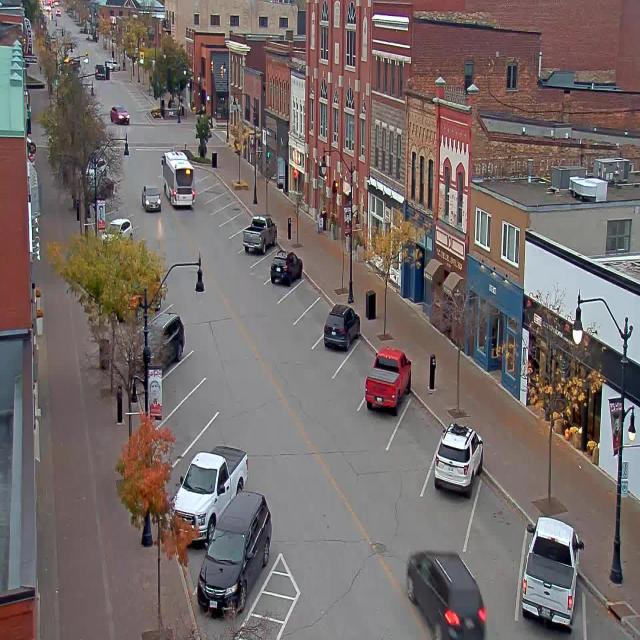available: (459, 476, 538, 586), (381, 389, 443, 482), (328, 334, 382, 410), (165, 372, 235, 424), (173, 406, 246, 452), (580, 589, 640, 640), (163, 346, 224, 392), (293, 301, 326, 346), (279, 283, 311, 325), (248, 248, 274, 288), (220, 215, 250, 236), (215, 201, 243, 222), (199, 182, 227, 200), (208, 193, 235, 211), (195, 173, 220, 188)
occupied: (196, 490, 272, 617), (172, 444, 248, 547), (521, 515, 584, 629), (434, 421, 484, 497), (364, 346, 412, 414), (142, 306, 185, 368), (323, 303, 360, 351), (242, 214, 277, 254), (270, 249, 303, 286)
